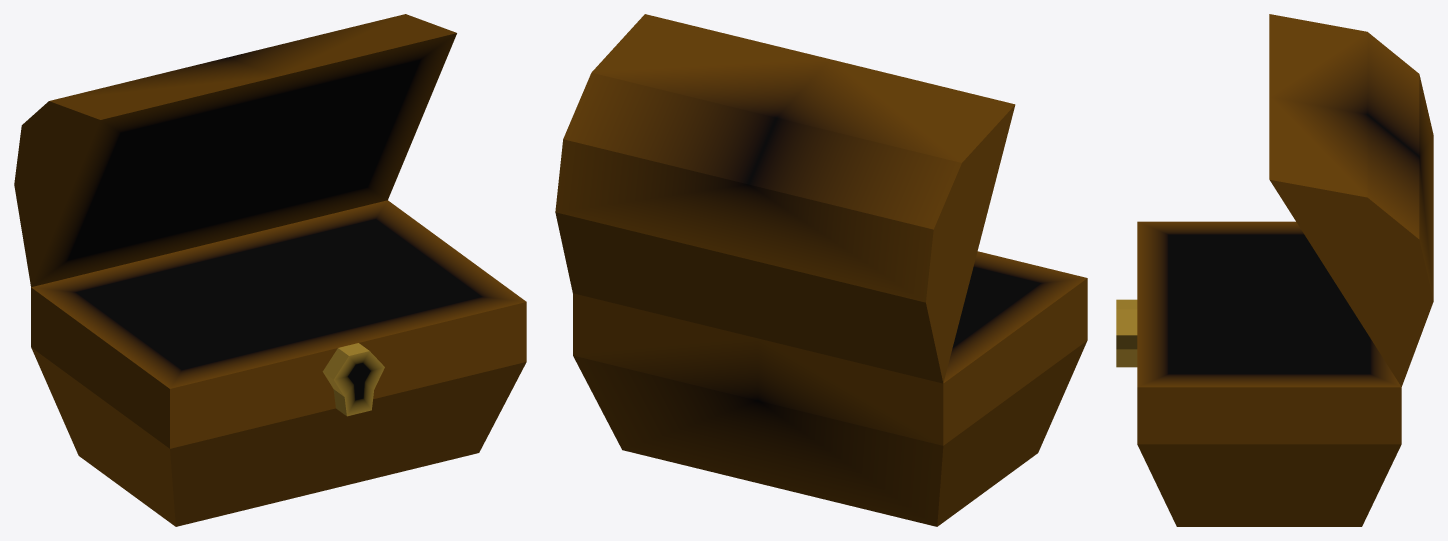
The model's file is Chest.fbx.
3 views of the same model, side by side, from view 1: azimuth 30°, elevation 25°; view 2: azimuth 150°, elevation 25°; view 3: azimuth 270°, elevation 25° (orthographic). The views are drawn at different scales.
Parts seen in each view (by area): view 1: Chest; view 2: Chest; view 3: Chest.
Boxes of the visible parts, x1,y1,x2,y2 form: Chest: [14, 14, 526, 526]; Chest: [555, 14, 1087, 526]; Chest: [1116, 14, 1433, 526].
Bounding box in the file's own units: 374 × 378 × 303.
